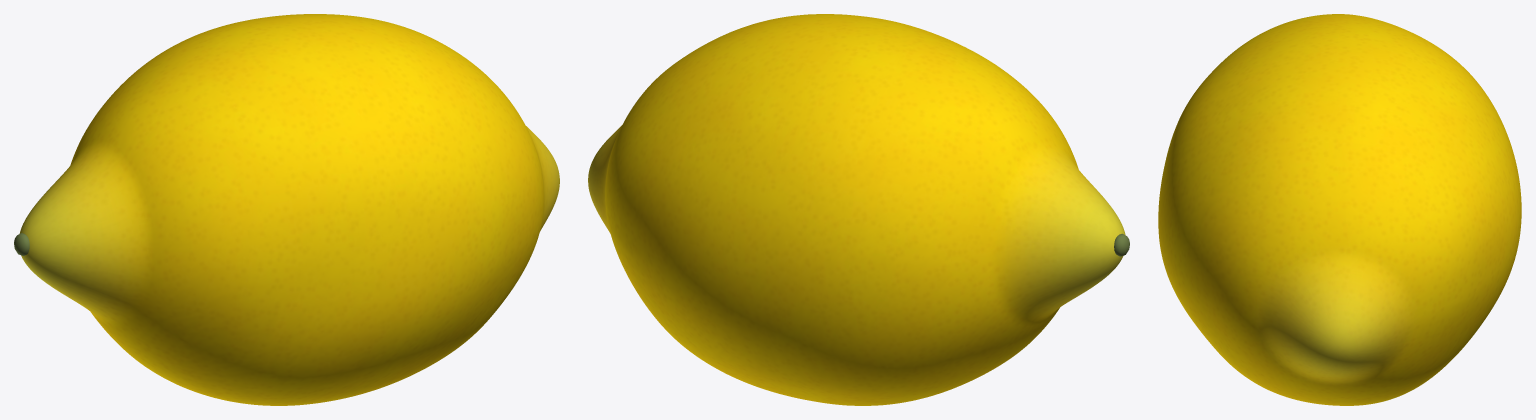
Rendered from lemon.glb.
3 views of the same model, side by side, from view 1: azimuth 30°, elevation 25°; view 2: azimuth 150°, elevation 25°; view 3: azimuth 270°, elevation 25° (orthographic). The views are drawn at different scales.
Visible parts, largest first — view 1: lemon; view 2: lemon; view 3: lemon.
Boxes of the visible parts, left/top/right/bottom form: lemon: left=14, top=14, right=559, bottom=405; lemon: left=588, top=14, right=1129, bottom=405; lemon: left=1158, top=14, right=1521, bottom=405.
Bounding box in the file's own units: 2 × 1.26 × 1.28.
Materials: 2 (1 with a texture image).
